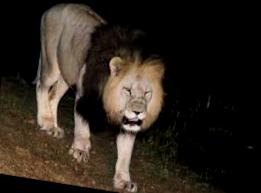lions: (13, 0, 181, 193)
